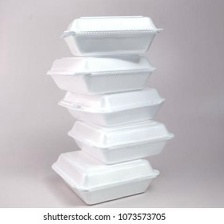foam_box: (47, 145, 161, 207), (64, 114, 177, 168), (55, 10, 166, 61), (41, 49, 158, 97), (53, 84, 168, 128)
